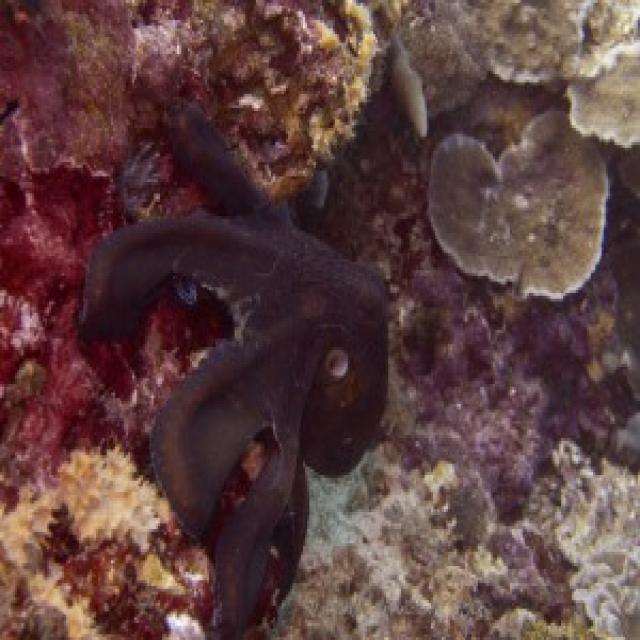Octo: (75, 55, 394, 639)
